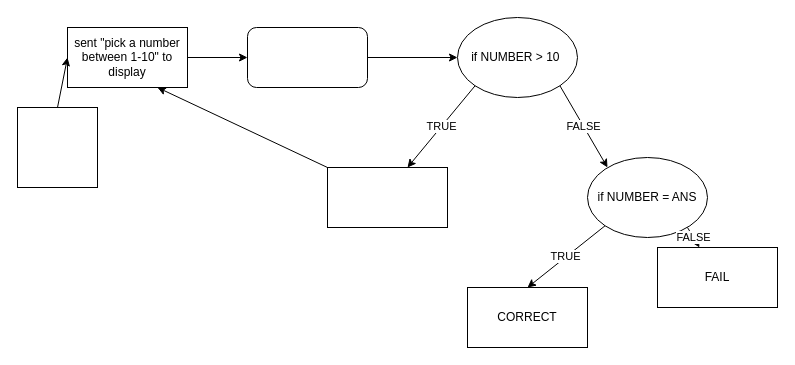
This 795x365 diagram has some shape labels left out. The shapes that lost their labels are listed below. From the top down, each one's centre as x and y in pixels, then its label:
the point at 307,57: receive NUMBER from keyboard
the point at 57,147: set ANS to random(1-10)
the point at 387,197: sent "Please pick a number within 1-10
